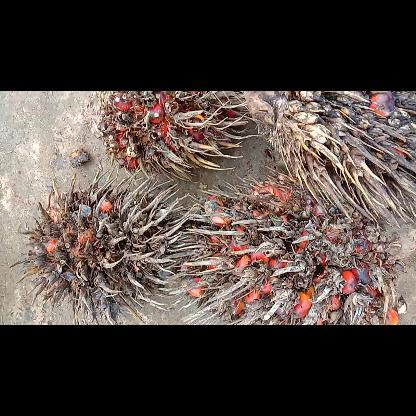Terlalu masak: (176, 174, 408, 324), (8, 165, 209, 324), (236, 91, 416, 229), (79, 90, 253, 186)
